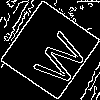W: (25, 25, 90, 90)
